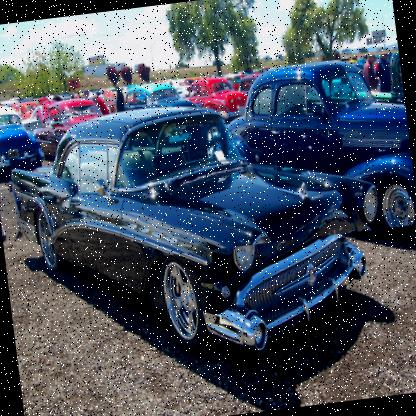Car: (0, 52, 415, 277), (174, 58, 190, 69), (133, 62, 145, 72), (341, 46, 352, 56), (212, 58, 224, 67), (260, 54, 272, 62), (356, 45, 368, 52), (376, 44, 386, 52), (388, 44, 398, 52), (275, 52, 284, 60), (330, 48, 340, 54)
